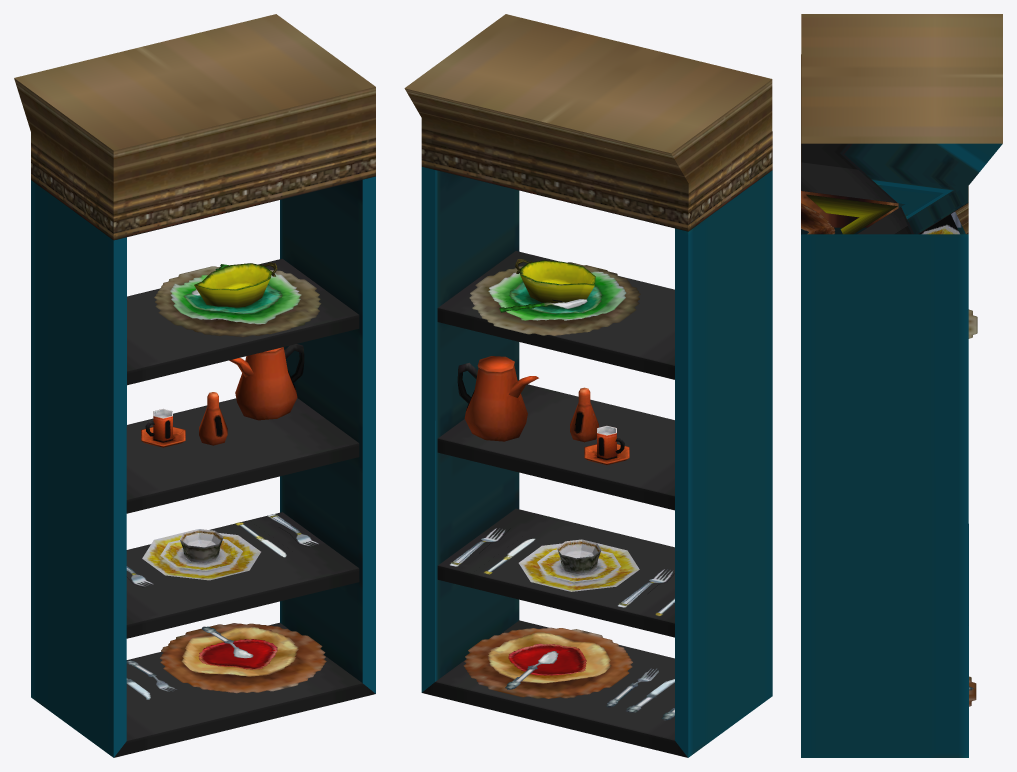
File: furni_0200322_02.FBX
3 renders of one model, left to right at view 1: azimuth 30°, elevation 25°; view 2: azimuth 150°, elevation 25°; view 3: azimuth 270°, elevation 25°, orthographic.
Parts seen in each view (by area): view 1: furni_0200322_02; view 2: furni_0200322_02; view 3: furni_0200322_02.
Part boxes in pixels (bbox=[...]): furni_0200322_02: bbox=[14, 14, 375, 757]; furni_0200322_02: bbox=[404, 14, 772, 757]; furni_0200322_02: bbox=[801, 14, 1002, 757].
Bounding box in the file's own units: 81.43 × 180 × 53.62.
